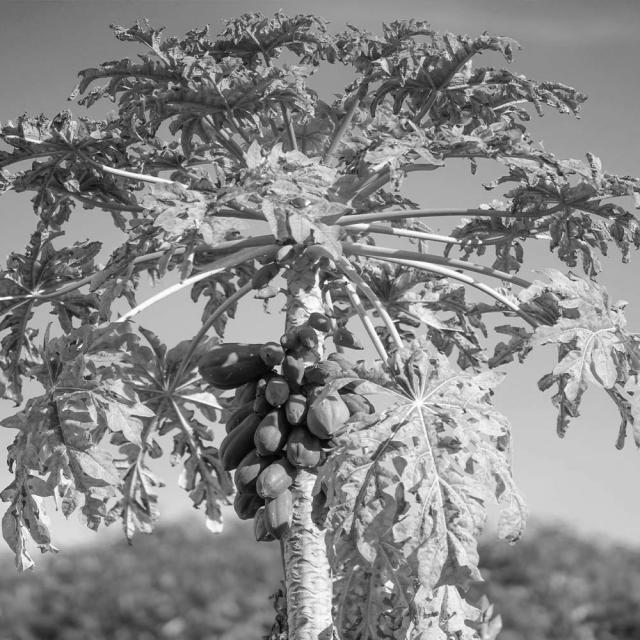Papaya-Tree: (4, 6, 632, 634)
